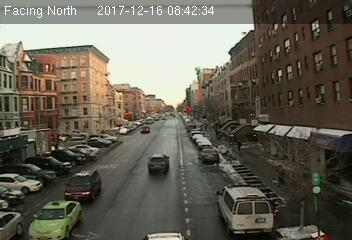car: (29, 200, 84, 240), (65, 168, 101, 204), (148, 153, 171, 172), (200, 148, 218, 162)
police: (216, 182, 275, 236)
